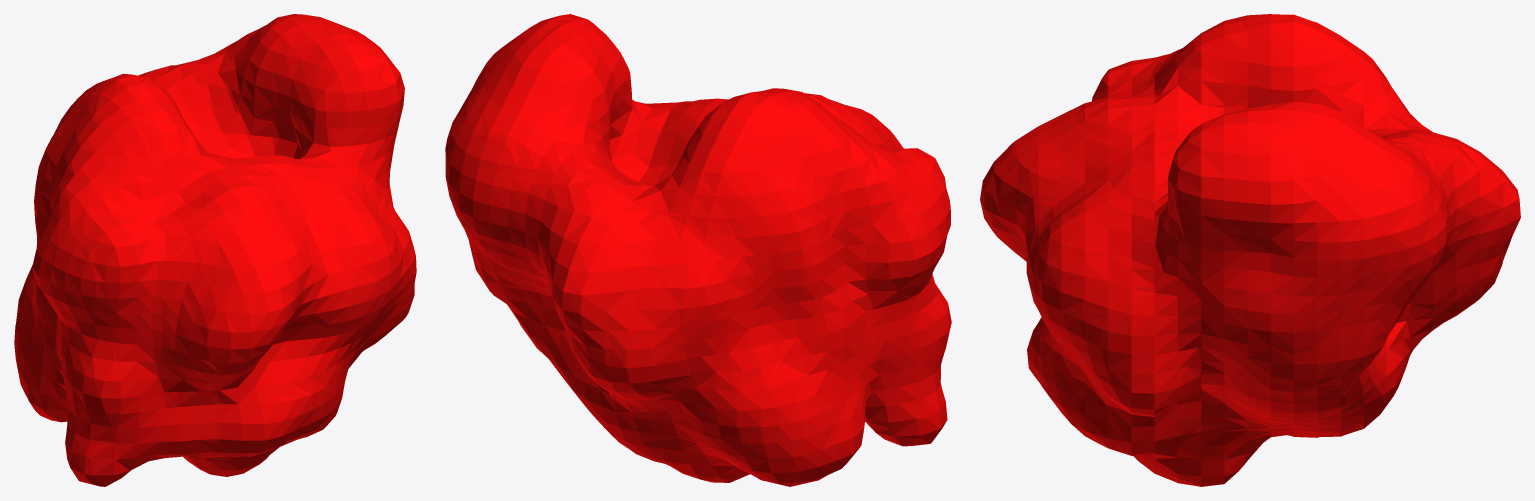
The model's file is sseB_coarse.dae.
3 views of the same model, side by side, from view 1: azimuth 30°, elevation 25°; view 2: azimuth 150°, elevation 25°; view 3: azimuth 270°, elevation 25° (orthographic). The views are drawn at different scales.
Visible parts, largest first — view 1: sseB; view 2: sseB; view 3: sseB.
Part boxes in pixels (box(x1,y1,x2,y2)): sseB: box(14, 14, 416, 486); sseB: box(445, 14, 951, 486); sseB: box(980, 14, 1520, 486).
Bounding box in the file's own units: 49.33 × 47.77 × 52.99.
